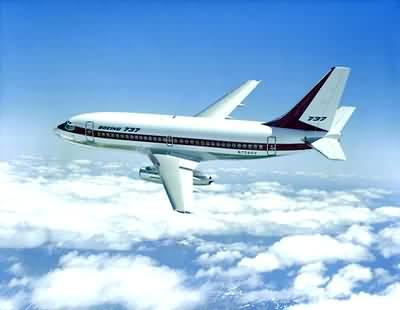airplane: (47, 64, 363, 218)
